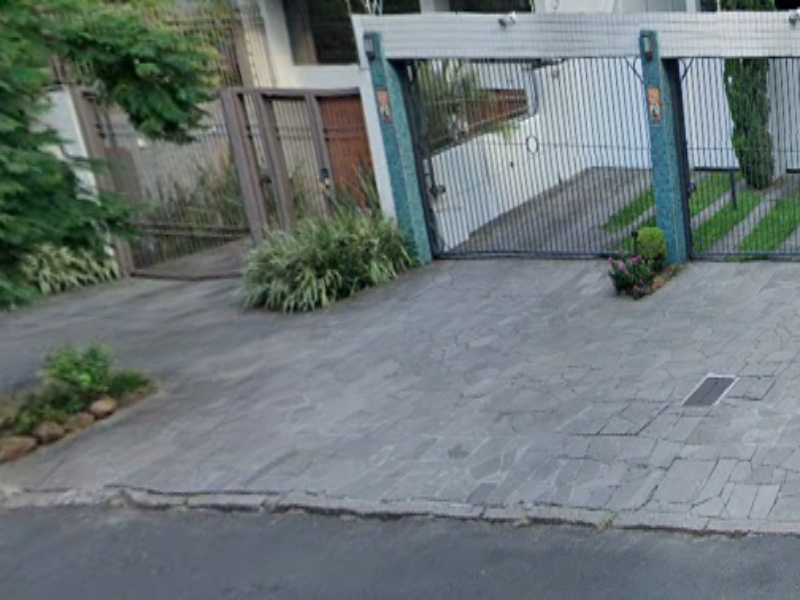g61: (60, 434, 800, 578)
